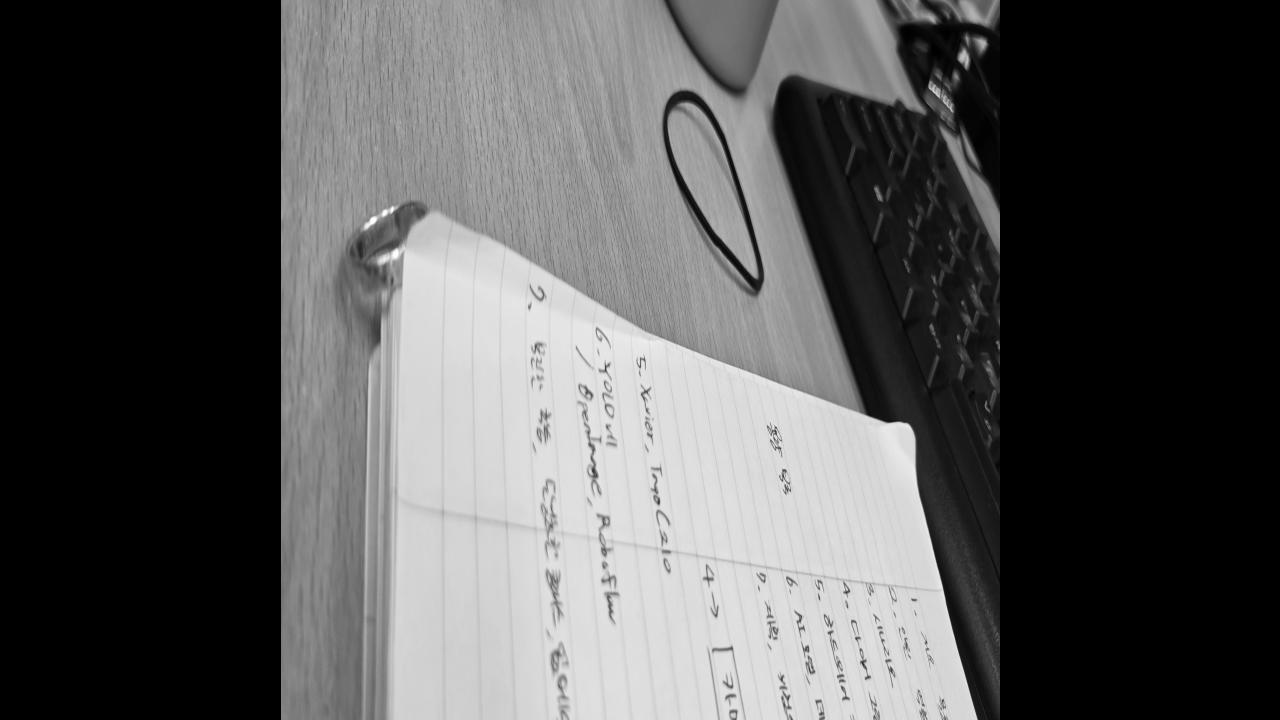ring: (346, 202, 430, 300)
